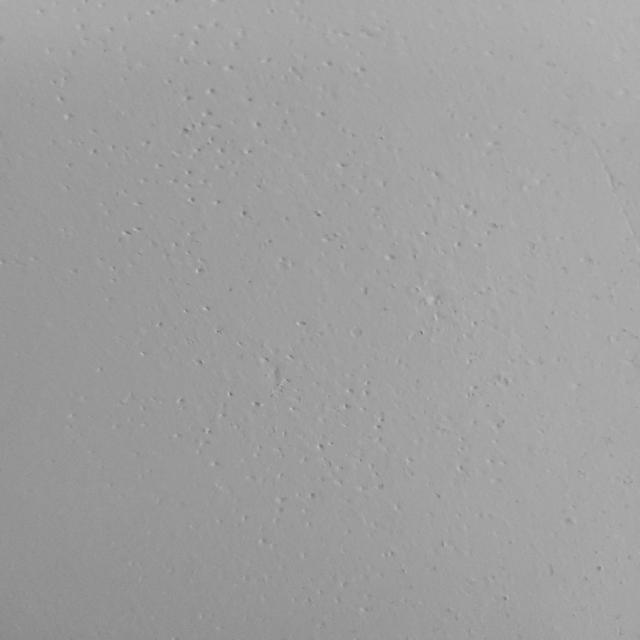rough and patchy surface: (7, 2, 624, 626)
